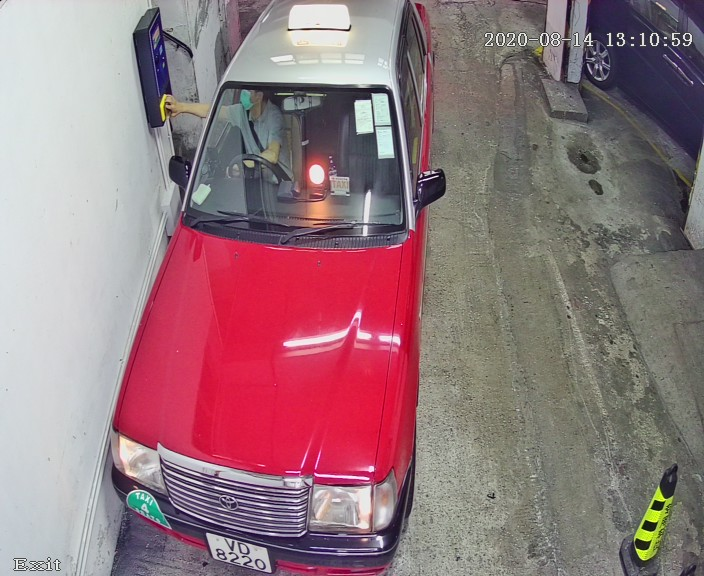taxi: (91, 3, 445, 571)
taxi_mark: (123, 481, 174, 532)
